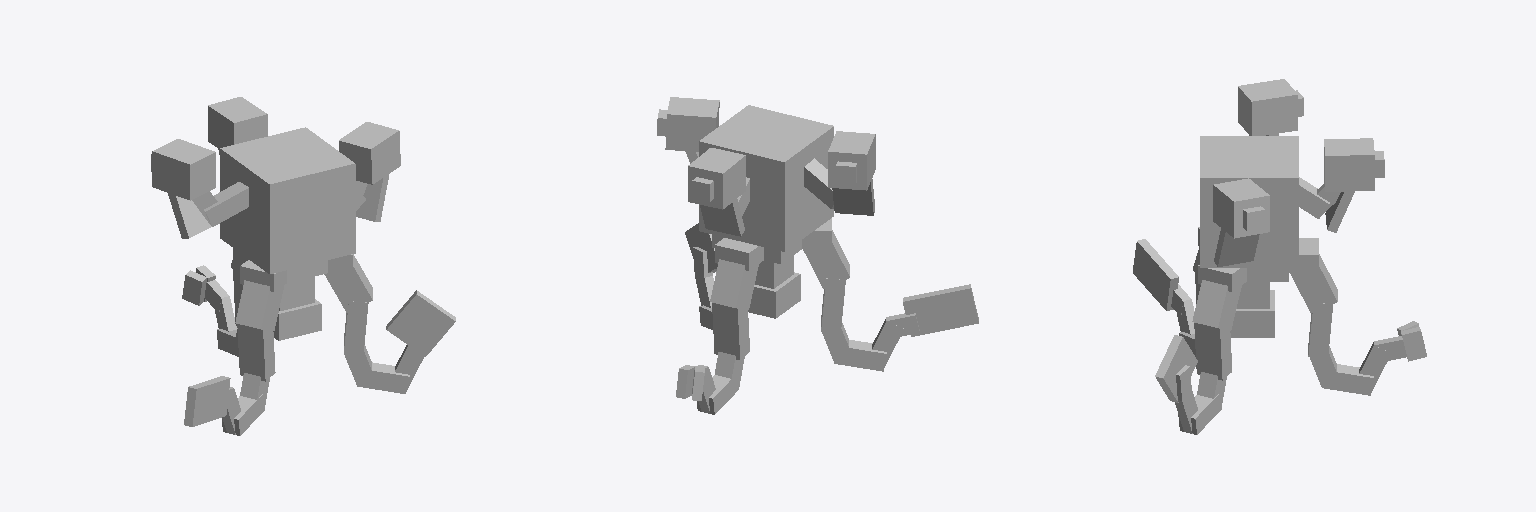
The model's file is mr_handy.obj.
3 renders of one model, left to right at view 1: azimuth 30°, elevation 25°; view 2: azimuth 150°, elevation 25°; view 3: azimuth 270°, elevation 25°, orthographic.
Parts seen in each view (by area): view 1: cube, torso; view 2: cube, torso; view 3: cube, torso.
Boxes of the visible parts, <box> form: cube: <box>151,97,455,435</box>; torso: <box>220,127,355,273</box>; cube: <box>657,97,978,414</box>; torso: <box>699,105,833,251</box>; cube: <box>1133,79,1426,434</box>; torso: <box>1200,136,1298,267</box>.
Size of the model in its own units: 2.06 by 1.78 by 1.86.